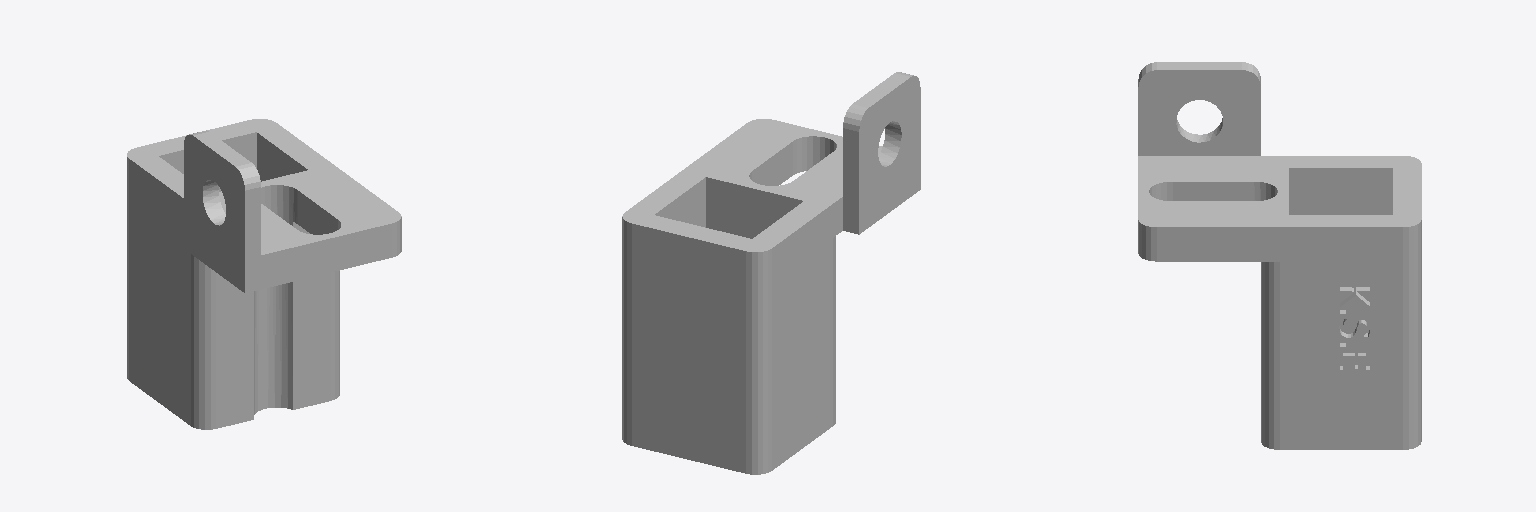
File: base motor V2.obj
3 renders of one model, left to right at view 1: azimuth 30°, elevation 25°; view 2: azimuth 150°, elevation 25°; view 3: azimuth 270°, elevation 25°, orthographic.
Parts seen in each view (by area): view 1: Solid1; view 2: Solid1; view 3: Solid1.
Part boxes in pixels (bbox=[...]): Solid1: bbox=[127, 119, 401, 429]; Solid1: bbox=[622, 72, 920, 474]; Solid1: bbox=[1138, 62, 1421, 449].
Size of the model in its own units: 20 by 36 by 30.